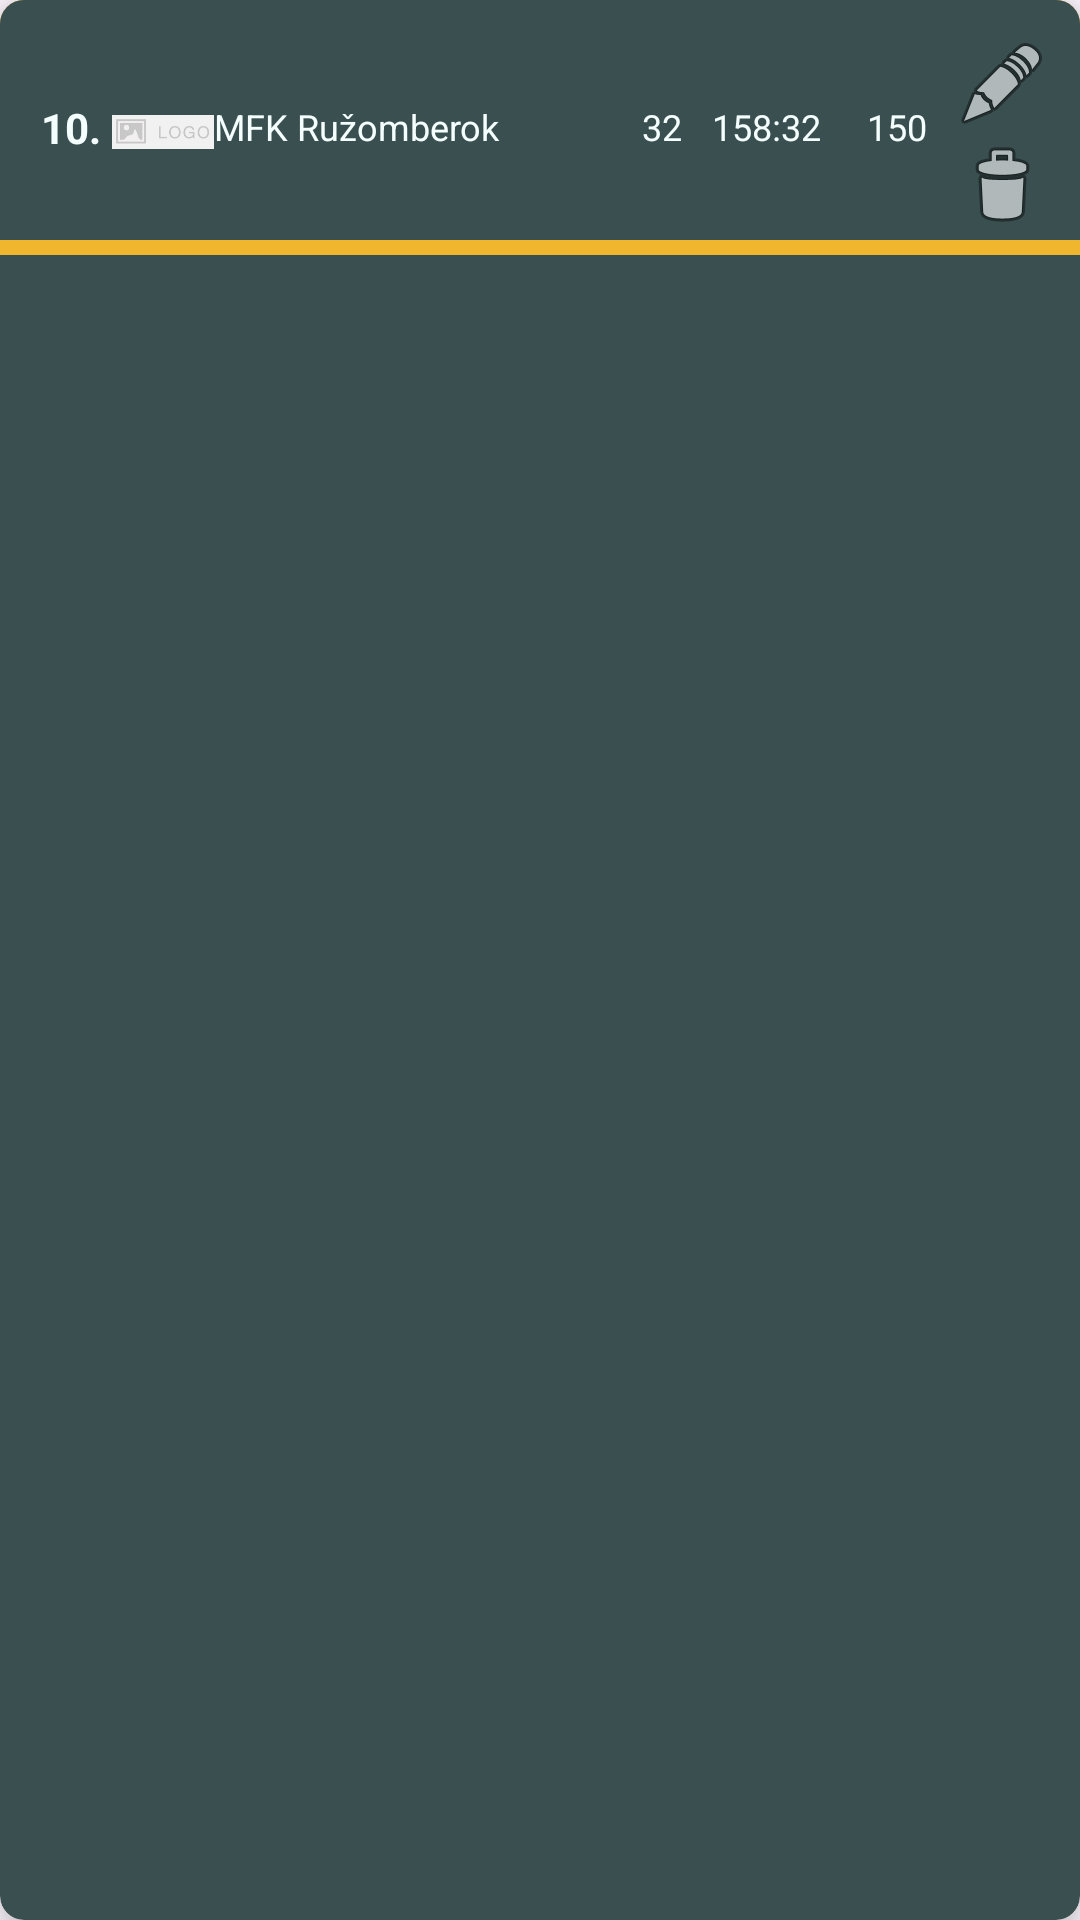

Icon click points for this 1080px×1920px phone screenshot, format (x=x, y=y):
delete: (x=1002, y=184)
edit: (x=1002, y=83)
